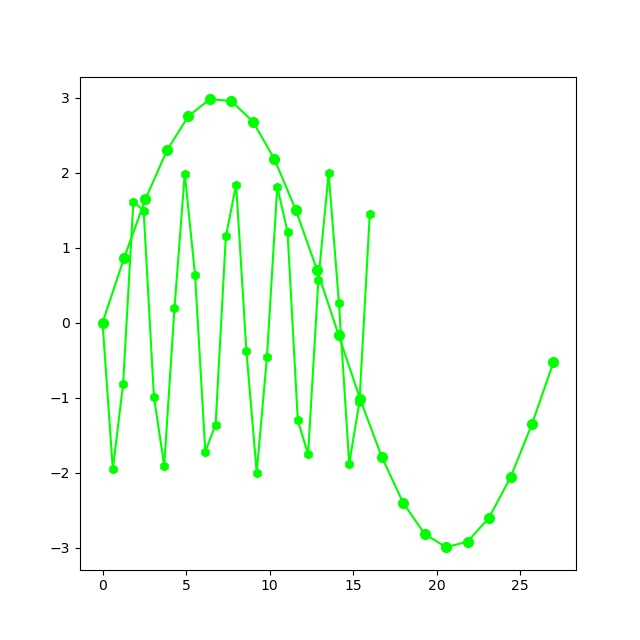circle: (97, 317, 109, 329), (119, 253, 131, 265), (140, 194, 152, 206), (161, 145, 173, 157), (183, 111, 195, 123), (204, 94, 216, 106), (226, 96, 238, 108), (247, 116, 259, 128), (269, 153, 281, 165), (290, 204, 302, 216), (312, 265, 324, 277), (333, 330, 345, 342), (355, 394, 367, 406), (376, 451, 388, 463), (398, 497, 410, 509), (419, 528, 431, 540), (441, 542, 453, 554), (462, 536, 474, 548), (484, 512, 496, 524), (505, 472, 517, 484), (526, 419, 538, 431), (548, 357, 560, 369)
hexagon1: (98, 318, 109, 329), (108, 464, 119, 475), (118, 379, 129, 390), (128, 197, 139, 208), (139, 206, 150, 217), (149, 392, 160, 403), (159, 461, 170, 472), (169, 303, 180, 314), (180, 169, 191, 180), (190, 270, 201, 281), (200, 447, 211, 458), (211, 420, 222, 431), (221, 231, 232, 242), (231, 180, 242, 191), (241, 346, 252, 357), (252, 468, 263, 479), (262, 352, 273, 363), (272, 182, 283, 193), (283, 227, 294, 238), (293, 415, 304, 426), (303, 449, 314, 460), (313, 275, 324, 286), (324, 168, 335, 179), (334, 298, 345, 309), (344, 459, 355, 470), (354, 397, 365, 408), (365, 209, 376, 220)
